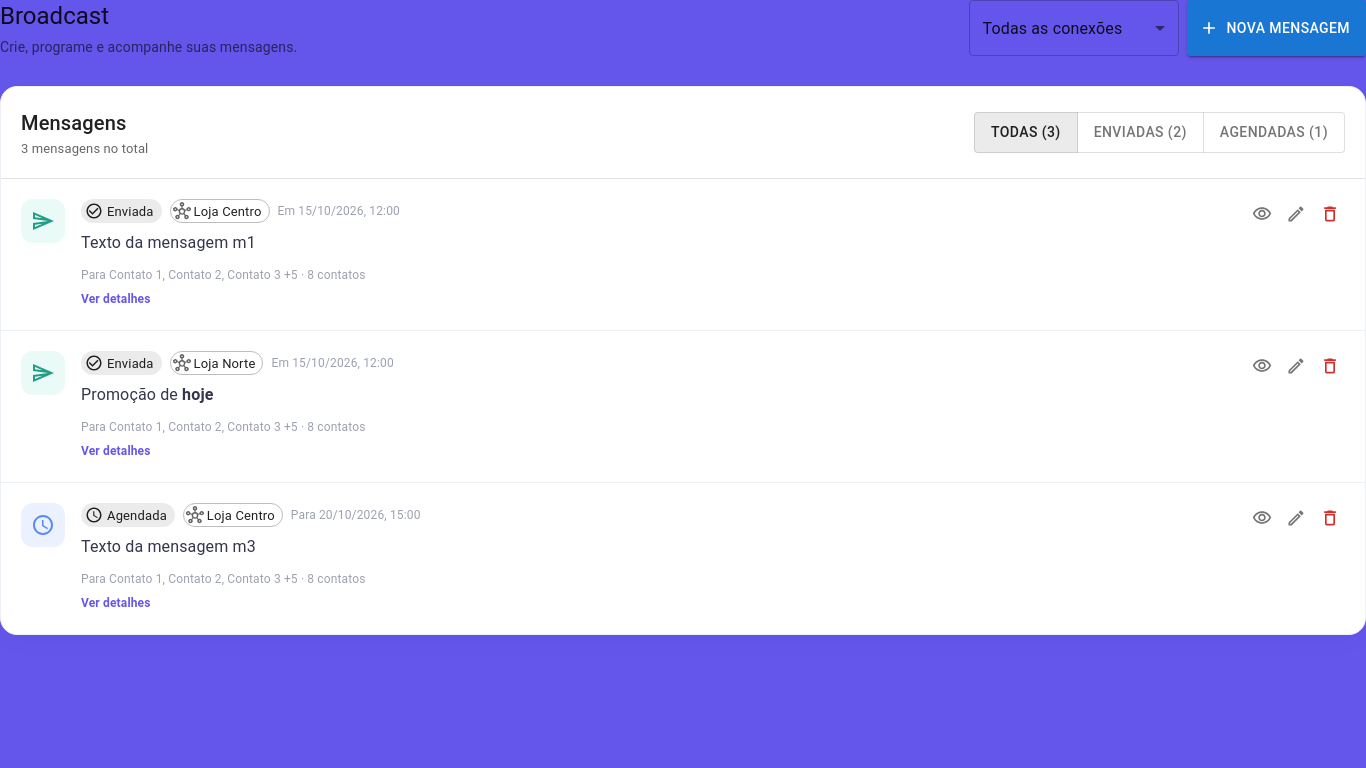
Scenario: BroadcastsPage › deletes a message only after the customer confirms
What coordinates should you click on to do the following:
click the 1st button named "Excluir mensagem"
I would click on:
 (1330, 214)
Its box is x1=1315 y1=199 x2=1345 y2=229.
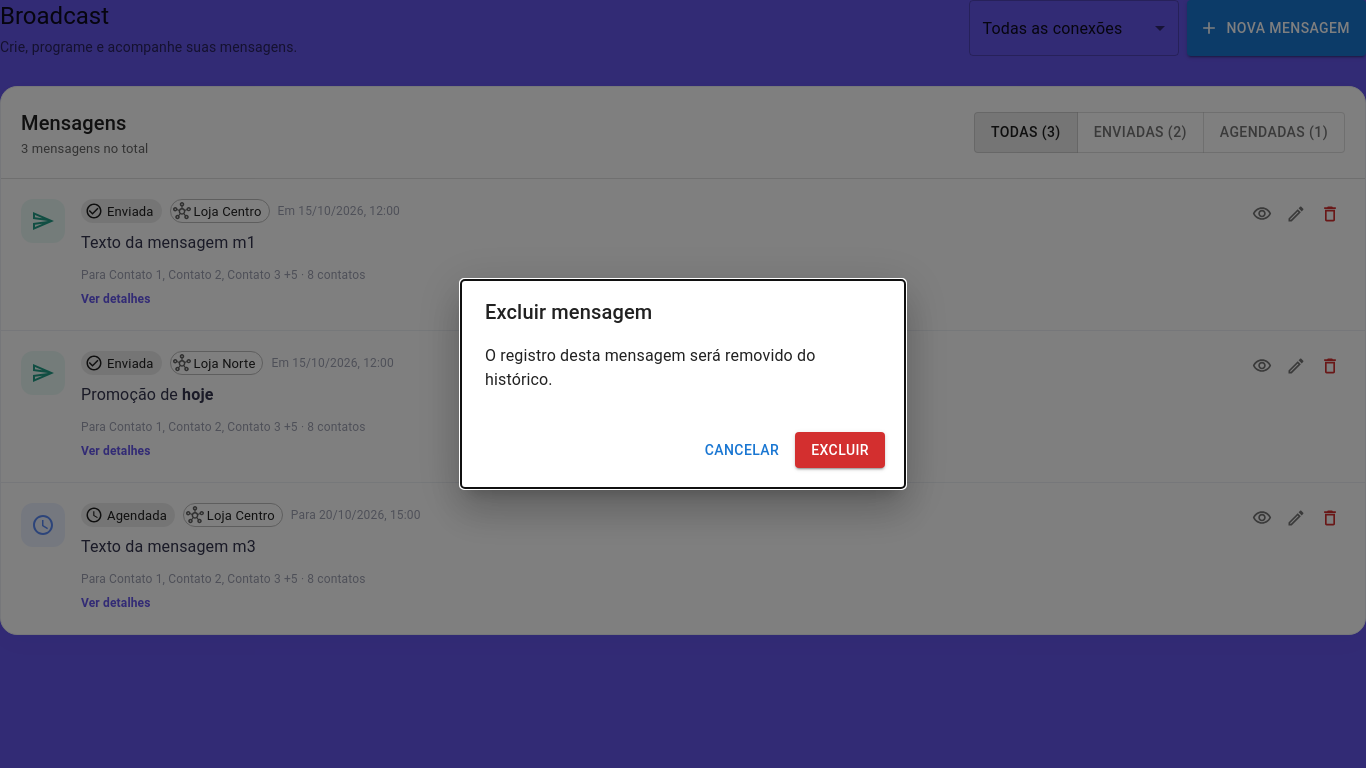
What coordinates should you click on to do the following:
click the button "Excluir"
I would click on:
 (840, 450)
Its box is x1=795 y1=432 x2=885 y2=468.
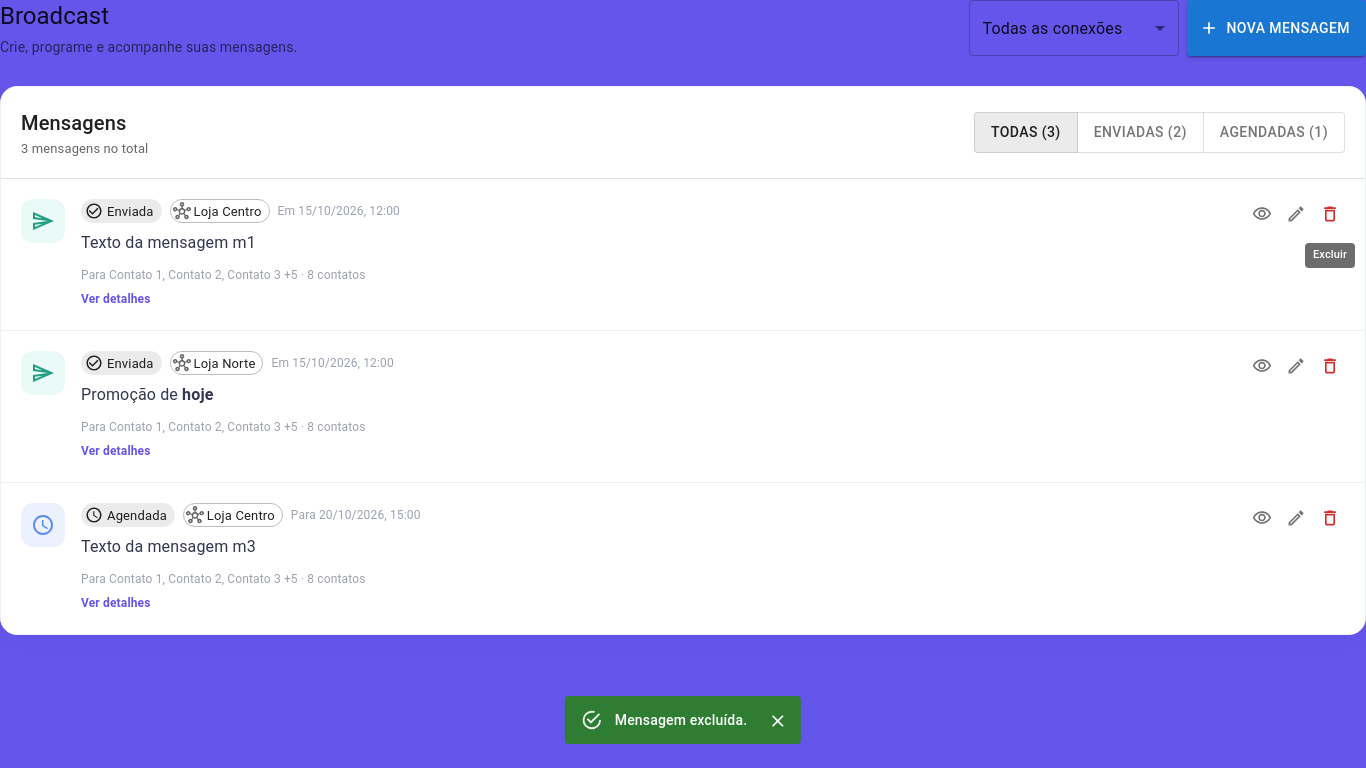
Check: the text "Mensagem excluída." is shown, box x1=615 y1=712 x2=747 y2=728
